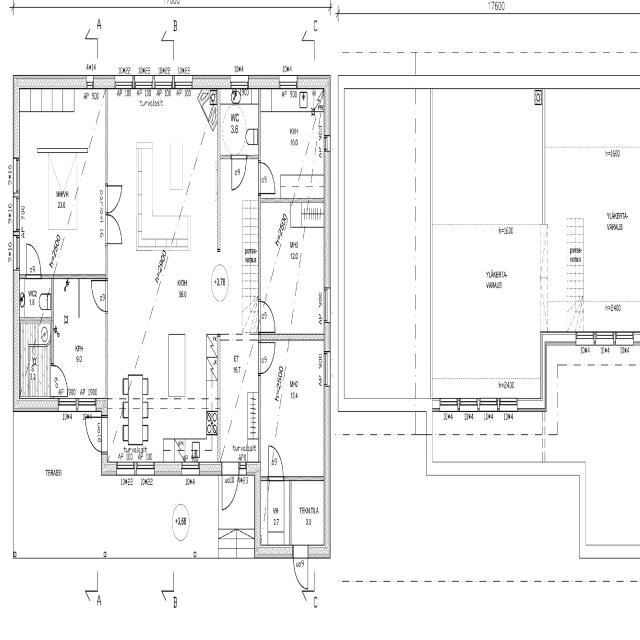door: (222, 462, 238, 512), (85, 418, 108, 452), (293, 545, 308, 589), (258, 301, 276, 332), (90, 280, 108, 311), (258, 343, 275, 374), (258, 163, 275, 193), (232, 155, 246, 190), (269, 446, 283, 481), (27, 244, 41, 278), (52, 366, 67, 396), (106, 214, 121, 243), (106, 186, 121, 214)
